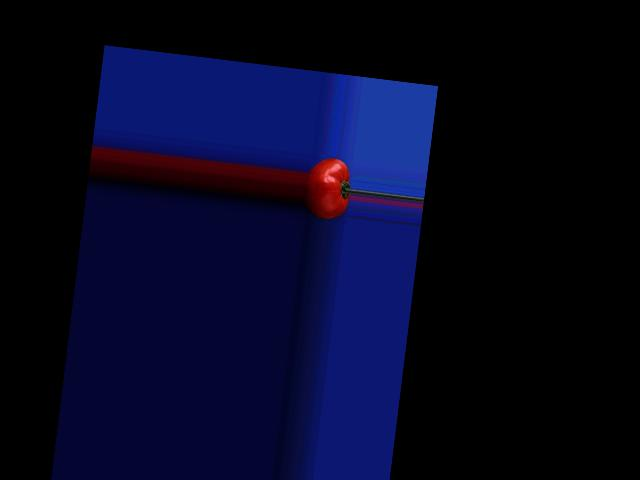tomato: (301, 156, 354, 222)
